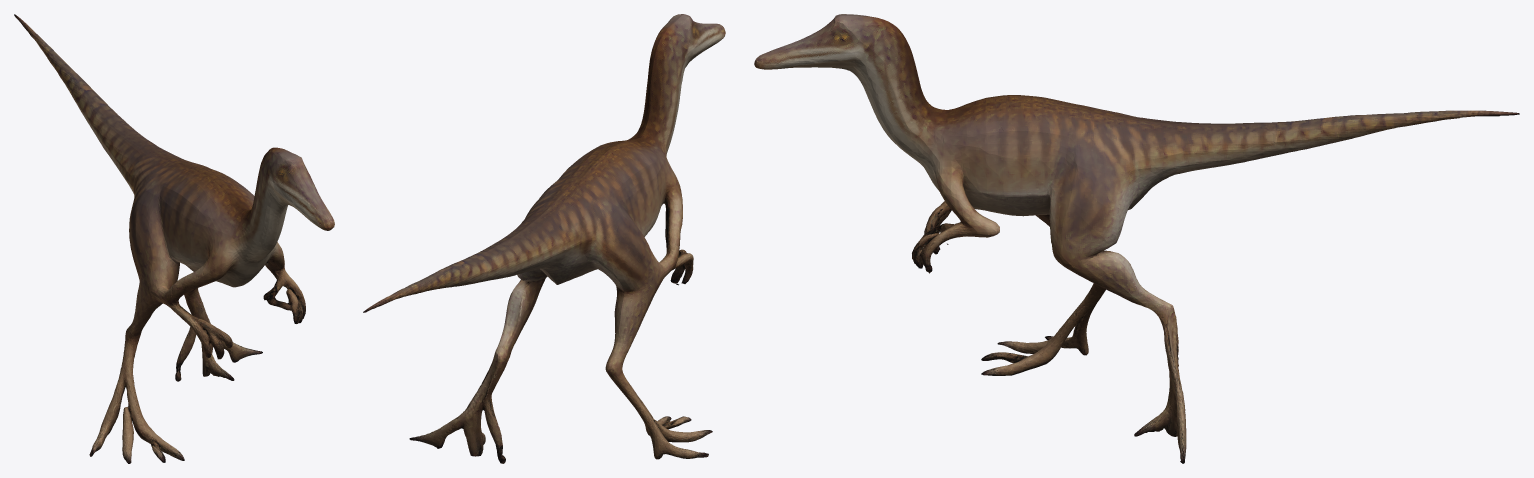
The picture shows the model from 3 angles, left to right: view 1: azimuth 30°, elevation 25°; view 2: azimuth 150°, elevation 25°; view 3: azimuth 270°, elevation 25°; orthographic projection. The views are drawn at different scales.
Parts seen in each view (by area): view 1: world; view 2: world; view 3: world.
Boxes of the visible parts, <box> form: world: <box>14,14,334,463</box>; world: <box>363,14,725,463</box>; world: <box>754,14,1519,463</box>.
Bounding box in the file's own units: 0.3998 × 0.556 × 0.9936.
1 material, 1 textured.
